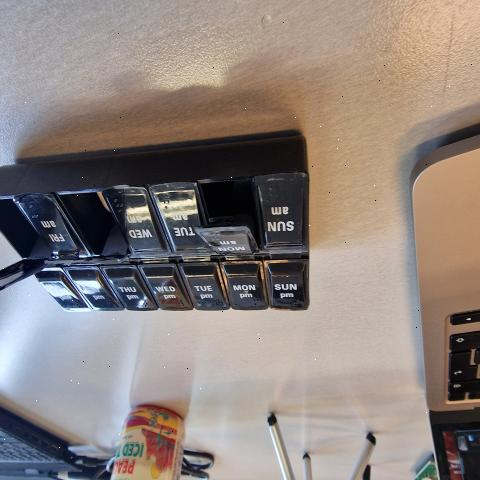Open: (196, 180, 263, 250), (57, 193, 130, 257), (0, 198, 49, 291)
